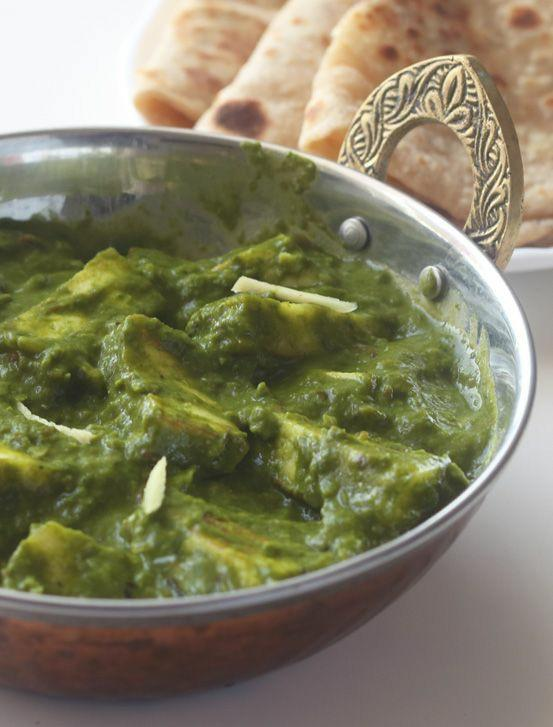PalakPaneer: (0, 206, 492, 602)
